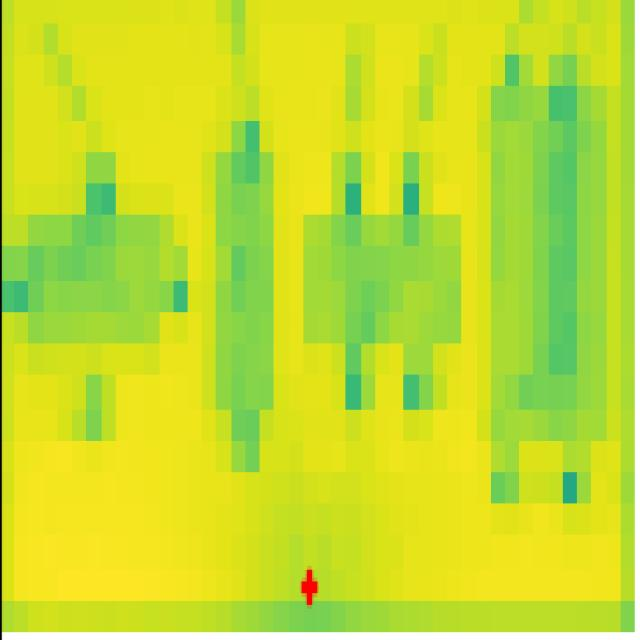Concrete: (27, 215, 160, 349)
Glass: (490, 85, 608, 442)
Metal: (214, 154, 276, 408)
Wood: (300, 215, 462, 346)
